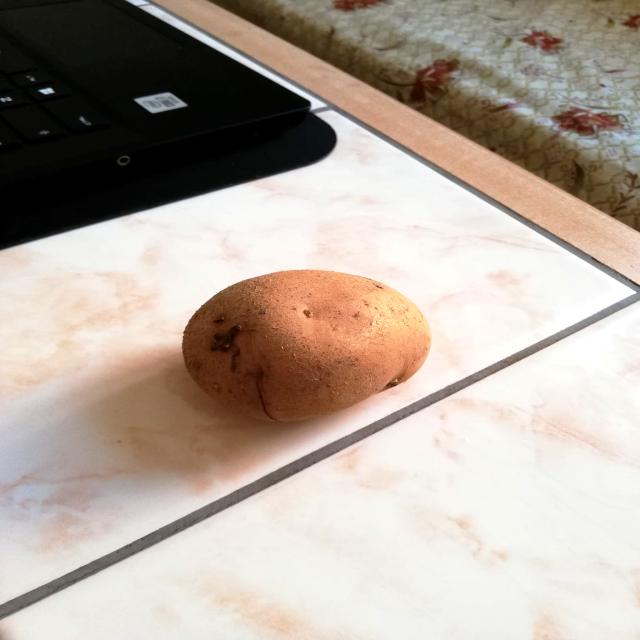potato: (174, 262, 443, 430)
